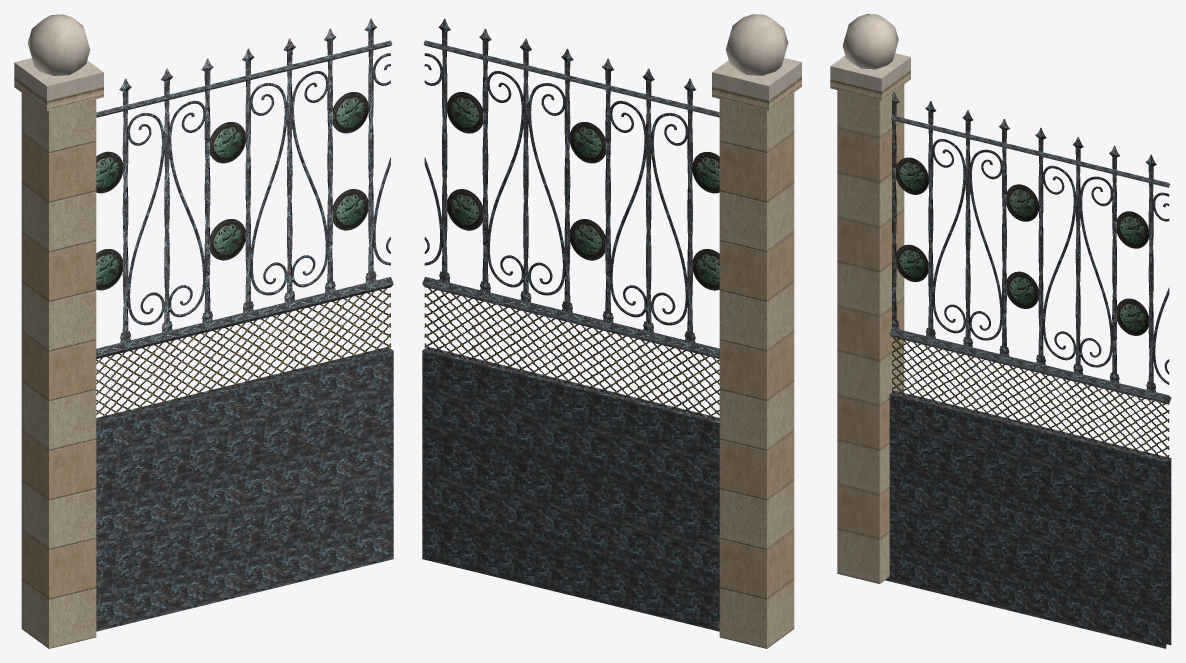
Rendered from thm_nboo_imprv_metal_fence_wall_lg_s01_l0.fbx.
3 renders of one model, left to right at view 1: azimuth 30°, elevation 25°; view 2: azimuth 150°, elevation 25°; view 3: azimuth 330°, elevation 25°, orthographic. The views are drawn at different scales.
Visible parts, largest first — view 1: mesh_node; view 2: mesh_node; view 3: mesh_node.
Part boxes in pixels (x1,y1,x2,y2): mesh_node: (14,14,393,648); mesh_node: (422,14,801,648); mesh_node: (830,14,1171,648).
Size of the model in its own units: 3.8 by 6.26 by 0.6.
